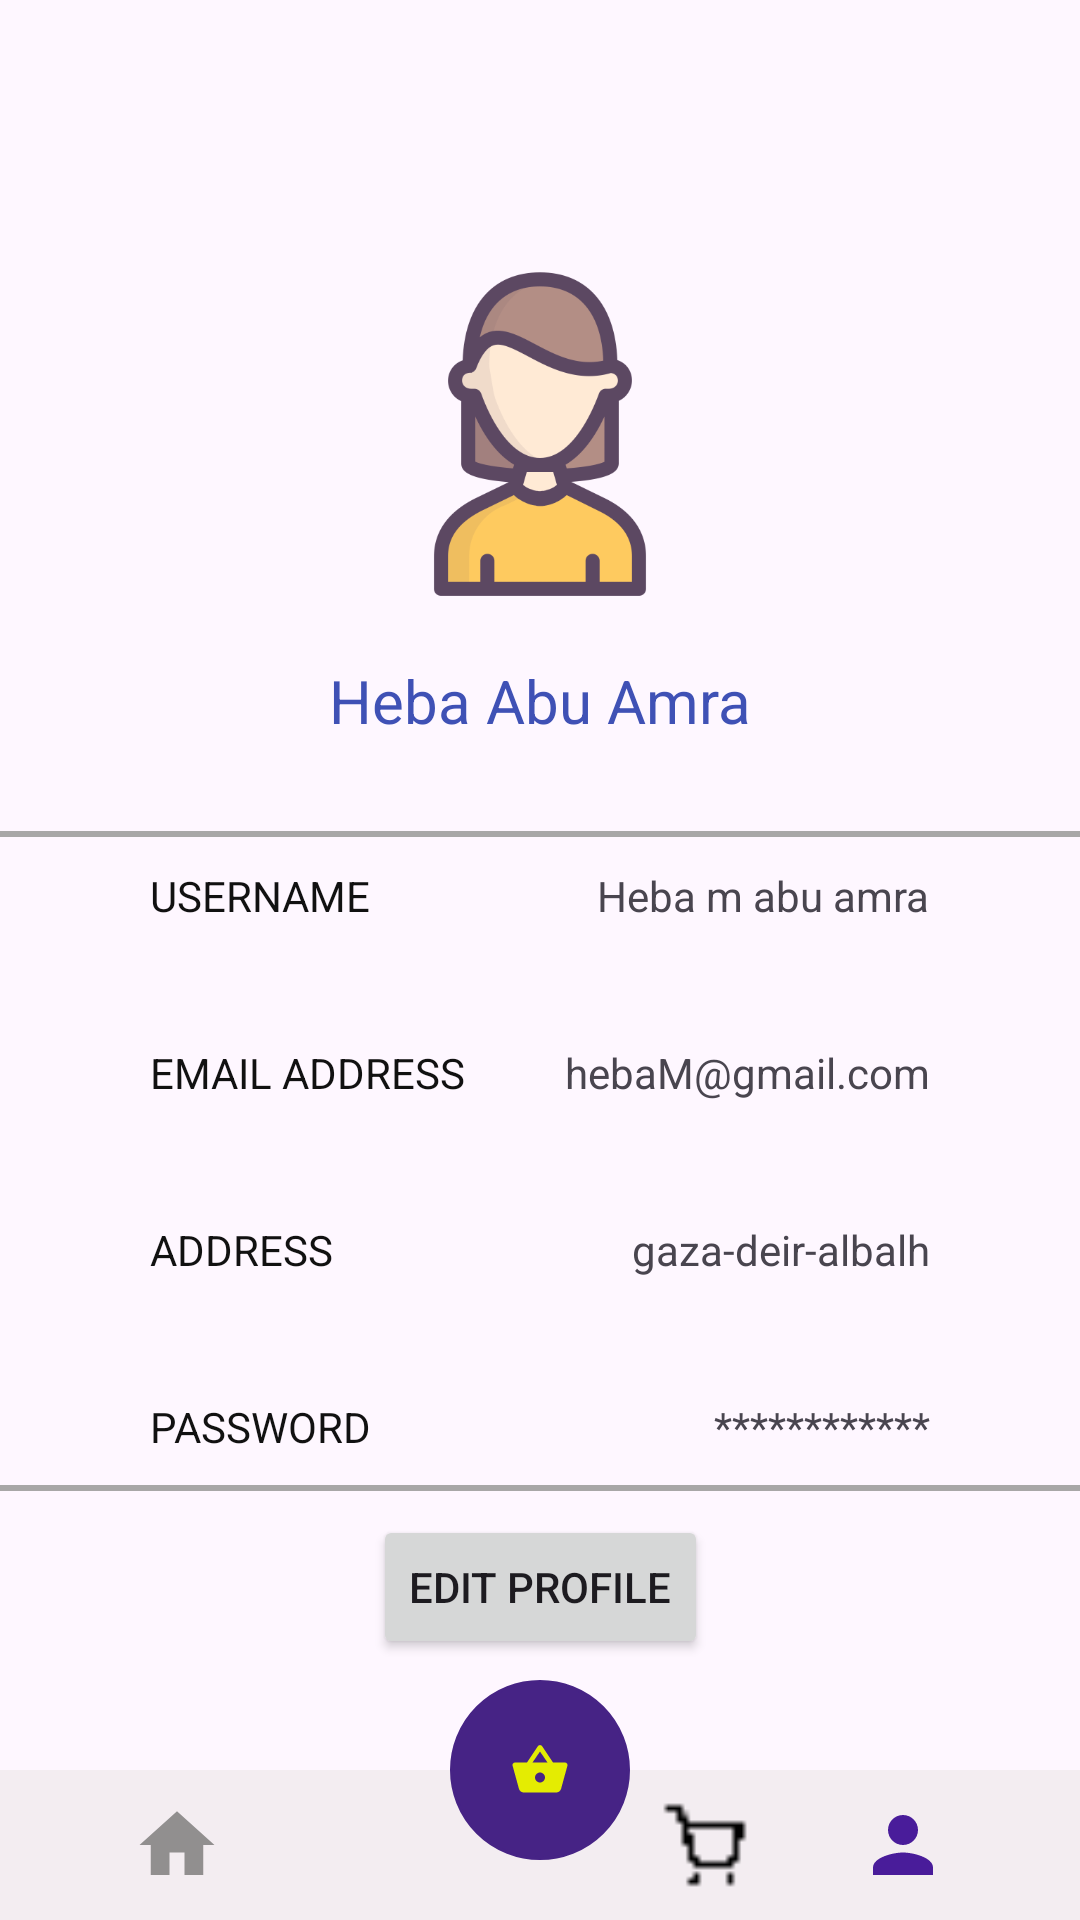

Icons on this 1080px x 1920px Android screen, each with its box as [x1=x1, y1=y1, x2=x2, y2=y2]:
basket: [x1=512, y1=1745, x2=568, y2=1793]
cart: [x1=663, y1=1803, x2=747, y2=1887]
homeprime: [x1=140, y1=1811, x2=214, y2=1875]
personmain: [x1=873, y1=1815, x2=933, y2=1875]
